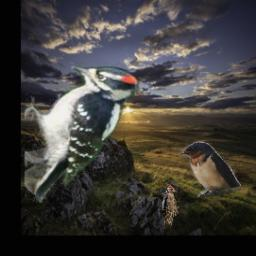Swallow: (179, 141, 241, 197)
Woodpecker: (26, 63, 142, 204), (162, 186, 180, 230)
